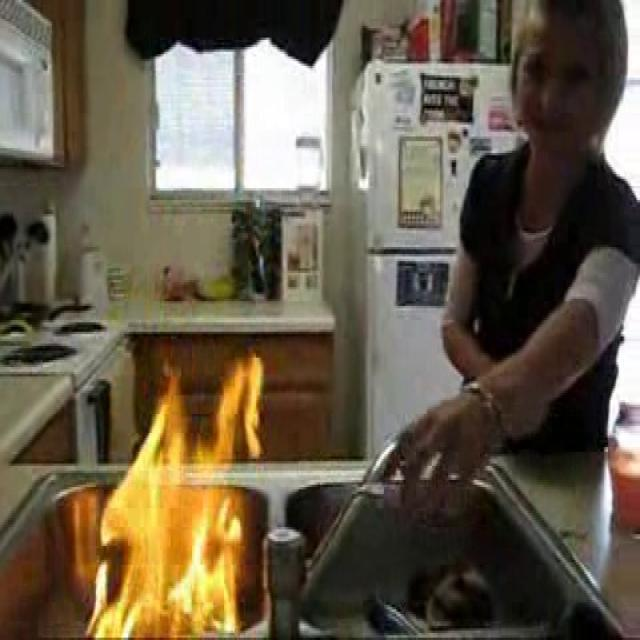fire: (109, 380, 253, 638)
